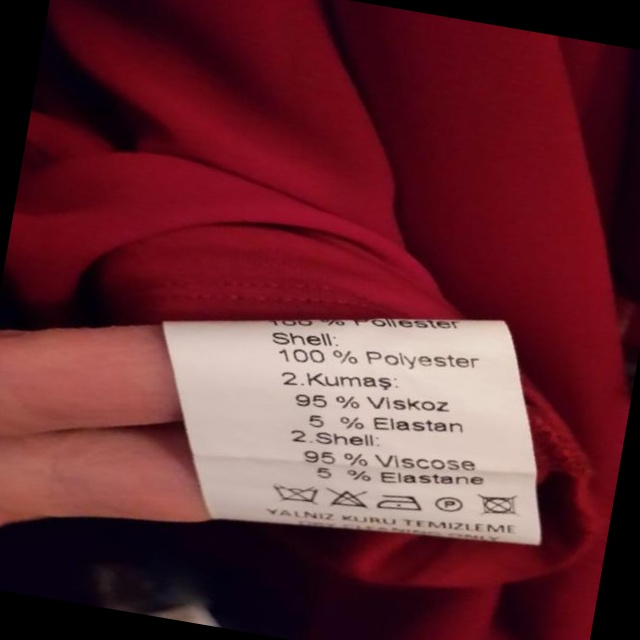DN_bleach: (325, 483, 370, 513)
DN_tumble_dry: (477, 489, 518, 521)
DN_wash: (272, 477, 321, 511)
dry_clean_any_solvent_except_trichloroethylene: (430, 491, 468, 519)
iron_low: (376, 485, 425, 518)
